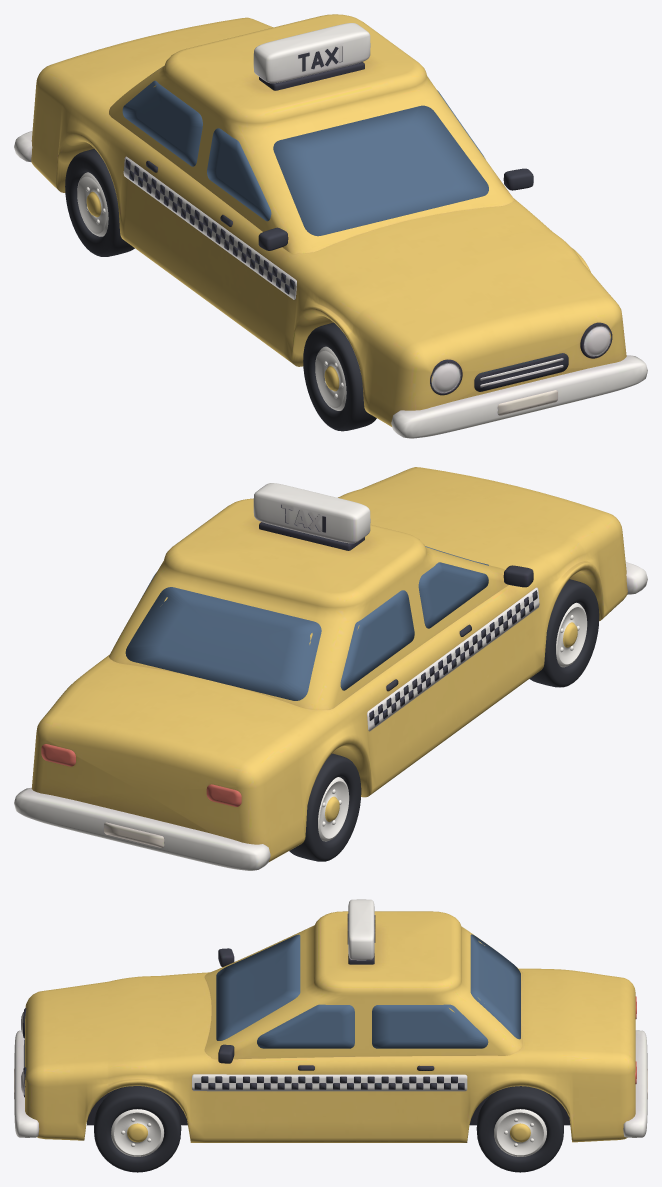
Rendered from taxi.glb.
3 renders of one model, top to bottom at view 1: azimuth 30°, elevation 25°; view 2: azimuth 150°, elevation 25°; view 3: azimuth 270°, elevation 25°, orthographic. The views are drawn at different scales.
Parts seen in each view (by area): view 1: taxi_body, taxi_windows, taxi_wheel_fr, taxi_wheel_rr; view 2: taxi_body, taxi_windows, taxi_wheel_rr, taxi_wheel_fr; view 3: taxi_body, taxi_windows, taxi_wheel_fl, taxi_wheel_rl.
Boxes of the visible parts, x1=… form: taxi_body: x1=14, y1=14, x2=647, y2=438; taxi_windows: x1=122, y1=80, x2=488, y2=236; taxi_wheel_fr: x1=303, y1=322, x2=376, y2=431; taxi_wheel_rr: x1=65, y1=148, x2=134, y2=256; taxi_body: x1=14, y1=467, x2=647, y2=870; taxi_windows: x1=125, y1=546, x2=488, y2=700; taxi_wheel_rr: x1=289, y1=753, x2=361, y2=861; taxi_wheel_fr: x1=529, y1=579, x2=599, y2=687; taxi_body: x1=14, y1=899, x2=647, y2=1142; taxi_windows: x1=216, y1=934, x2=520, y2=1048; taxi_wheel_fl: x1=94, y1=1086, x2=181, y2=1172; taxi_wheel_rl: x1=476, y1=1086, x2=563, y2=1172.
Size of the model in its own units: 1.9 by 1.74 by 4.79.
14 materials, 1 textured.
